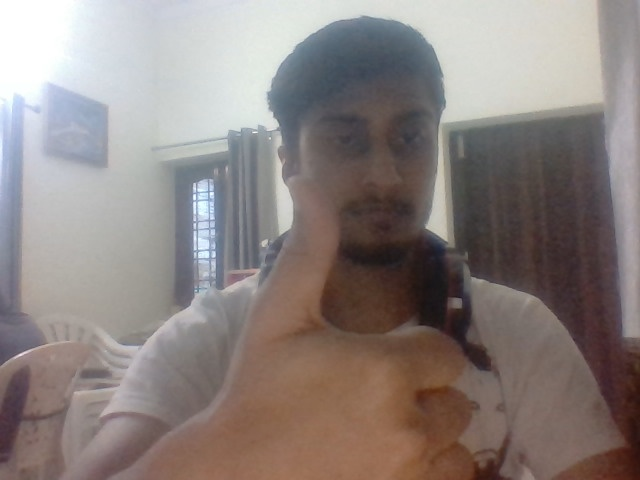ThumbsUp: (226, 175, 476, 480)
